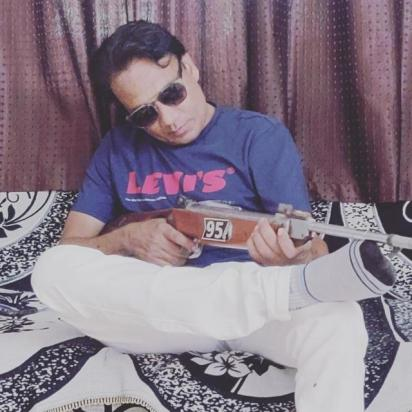Gun: (96, 196, 412, 260)
